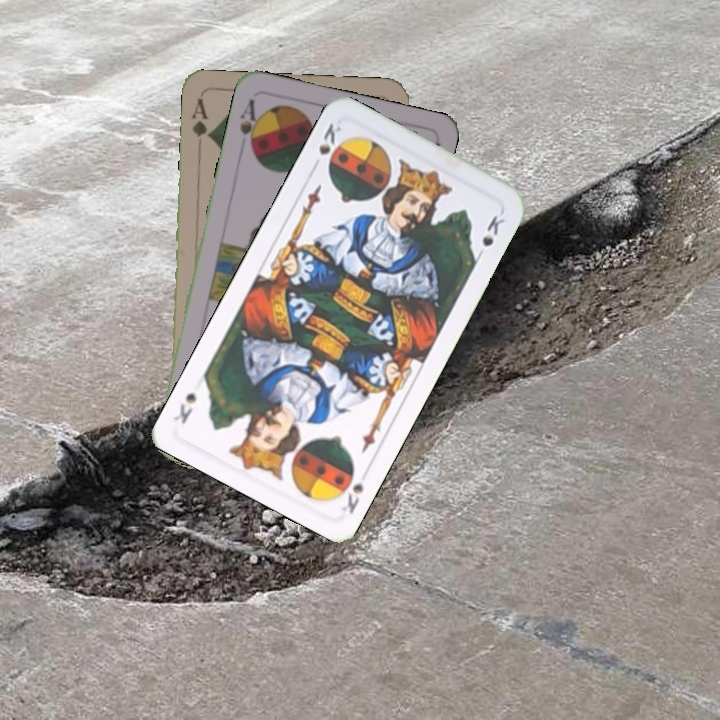GA: (187, 94, 214, 143)
SA: (235, 95, 264, 155)
SK: (333, 463, 370, 517), (308, 119, 344, 173)
